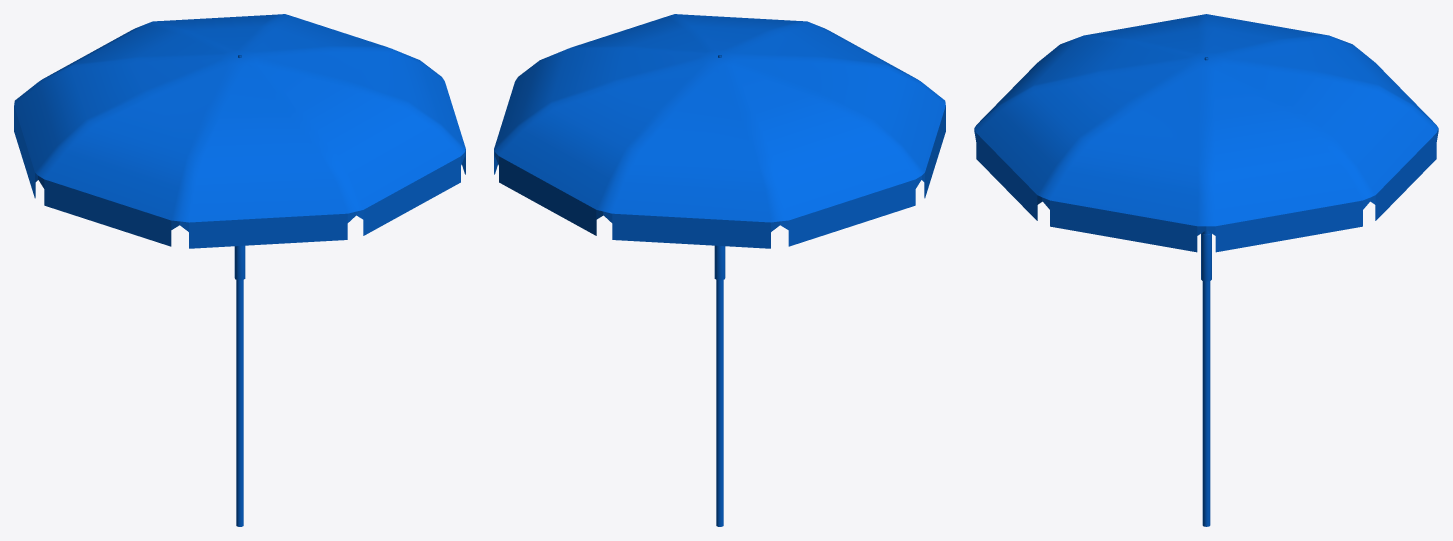
The model's file is Beach_Umbrella_01_Lod0.fbx.
3 renders of one model, left to right at view 1: azimuth 30°, elevation 25°; view 2: azimuth 150°, elevation 25°; view 3: azimuth 270°, elevation 25°, orthographic.
Parts seen in each view (by area): view 1: Beach_Umbrella_01_Lod0; view 2: Beach_Umbrella_01_Lod0; view 3: Beach_Umbrella_01_Lod0.
Boxes of the visible parts, x1=… form: Beach_Umbrella_01_Lod0: x1=14, y1=14, x2=465, y2=526; Beach_Umbrella_01_Lod0: x1=494, y1=14, x2=945, y2=526; Beach_Umbrella_01_Lod0: x1=974, y1=14, x2=1438, y2=526.
Bounding box in the file's own units: 243 × 270 × 243.
